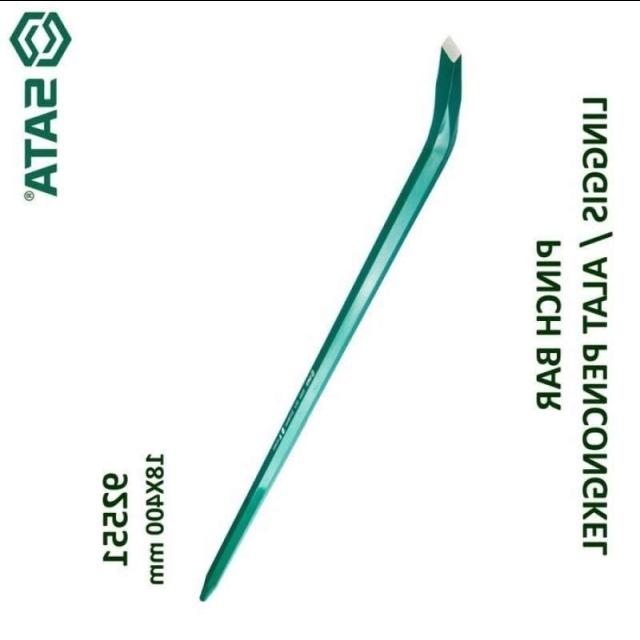Linggis: (201, 40, 463, 606)
